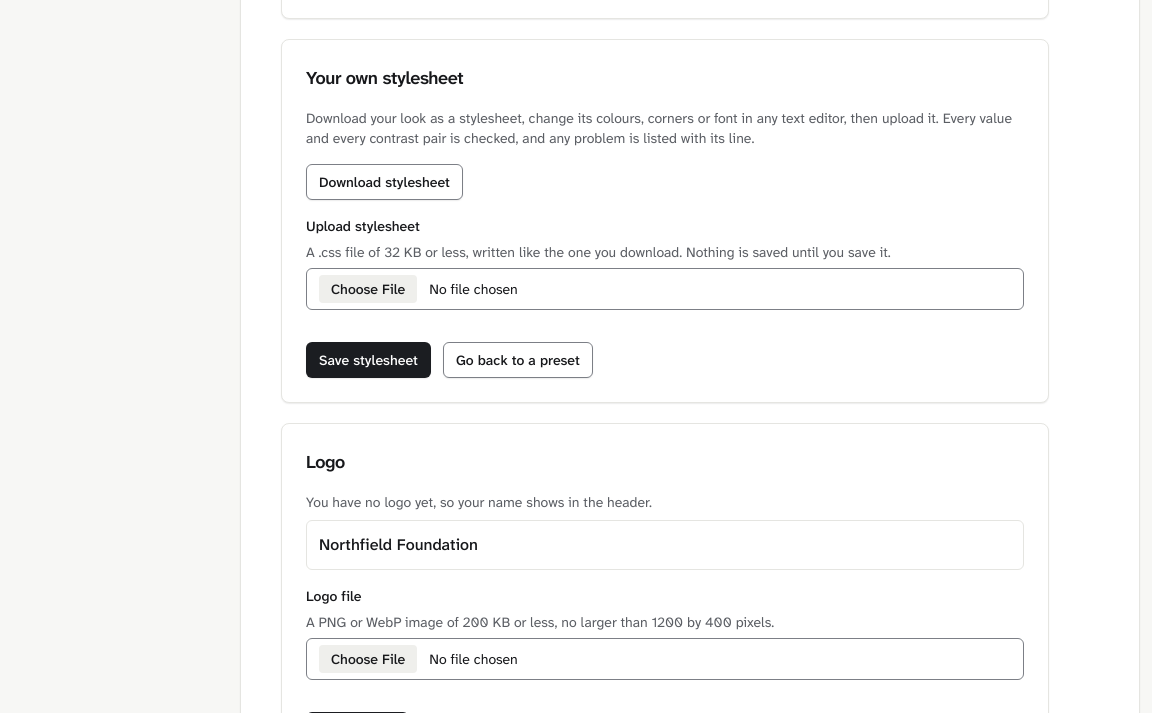
Test: the page while a stylesheet is in use › removes the stylesheet when told to, and moves focus to the file field
(page scrolled)
Expected: the file field labelled "Upload stylesheet" is shown, [306,268,1024,310]
What coordinates should you click on to do the following:
click the button "Go back to a preset"
I would click on:
 (518, 360)
Its box is [443,342,593,378].
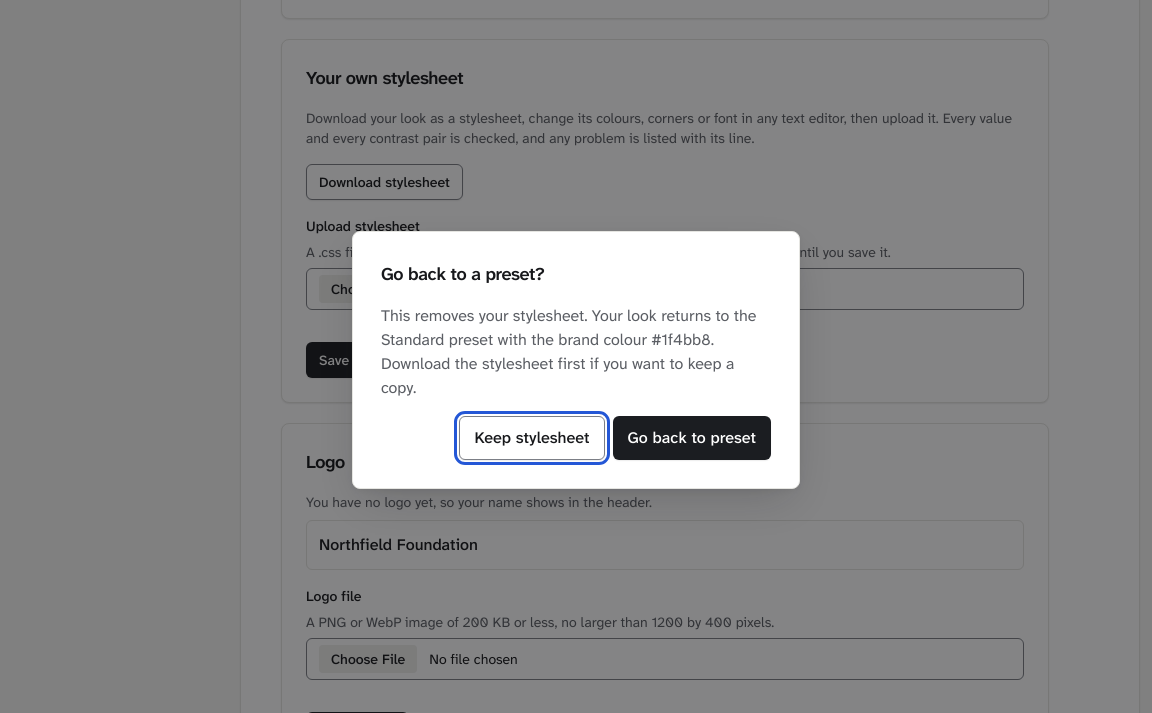
What coordinates should you click on to do the following:
click the button "Go back to preset"
I would click on:
 (692, 438)
Its box is [613,416,771,460].
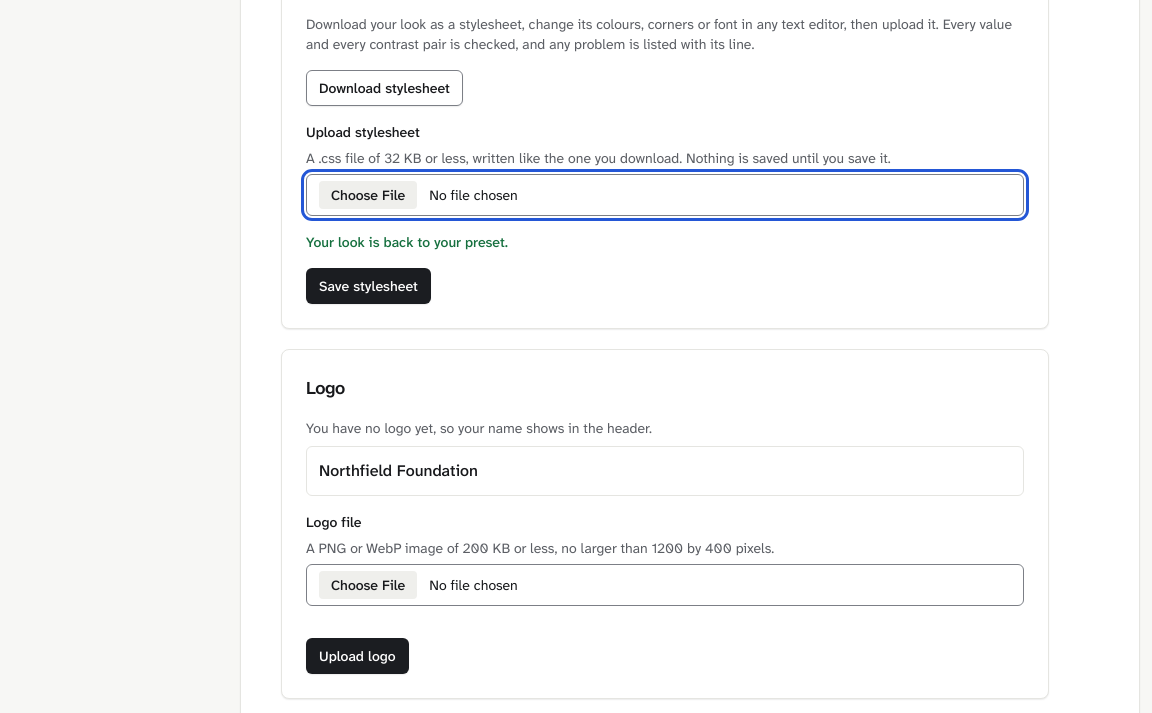
Expected: the text "Your look is back to your preset." is shown, [306,233,508,251]
Expected: the button "Go back to a preset" is gone
Expected: the dialog is gone
